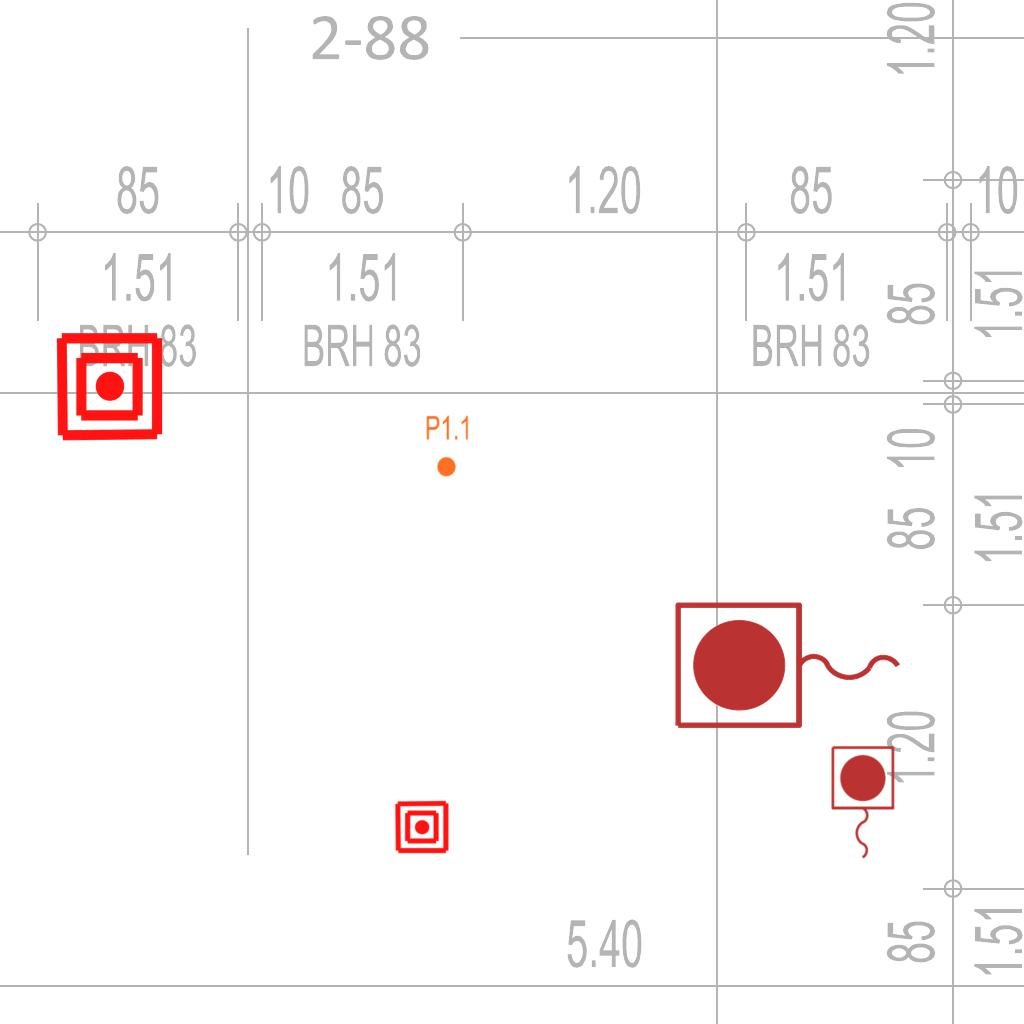Downlight_LED_Einbauleuchten_Flur: (425, 414, 471, 478)
NAM-Nichtautomatischer_Melder: (53, 330, 166, 443), (394, 799, 450, 855)
Zugtaster: (667, 595, 911, 739), (826, 742, 898, 864)
